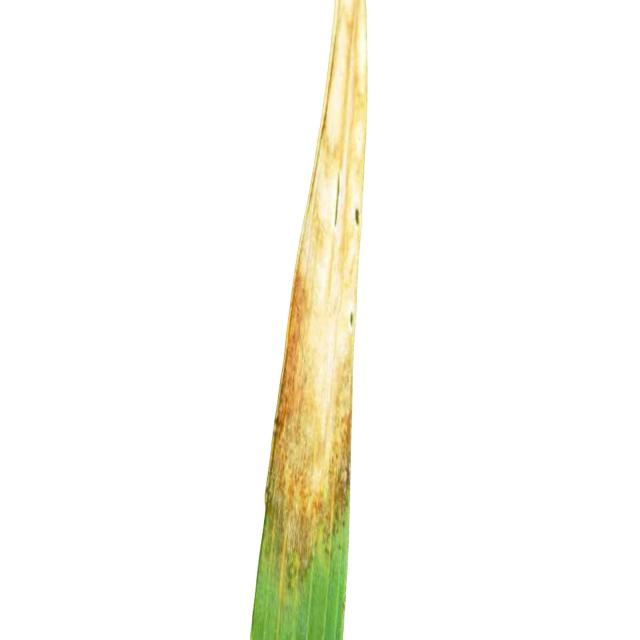Leaf scald: (215, 0, 468, 640)
